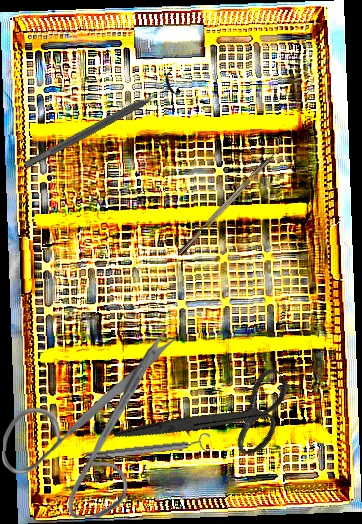Chopper: (172, 137, 287, 257)
Fixation Ring: (19, 70, 182, 177), (85, 432, 212, 466)
Iris Scissors: (111, 320, 310, 518), (1, 326, 177, 520)
